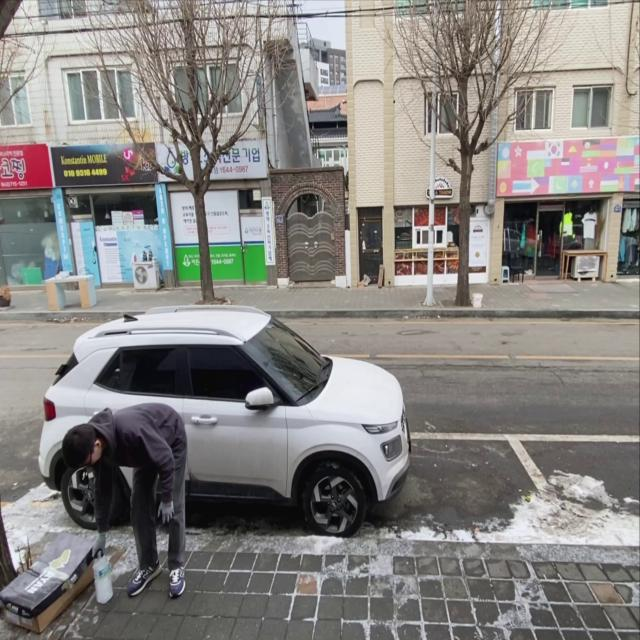gloved_hand: (154, 498, 179, 530), (87, 530, 109, 561)
